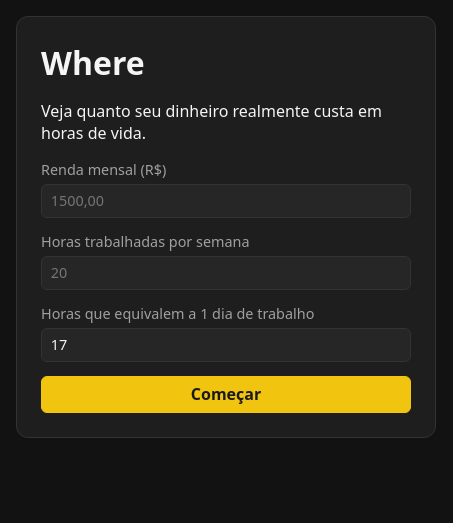
Onboarding › is shown and blocks until settings are valid
The image size is (453, 523).
Expected: the heading "Where" is shown, [41,41,145,84]
Click the button "Começar" at (226, 394), box [41,376,411,413]
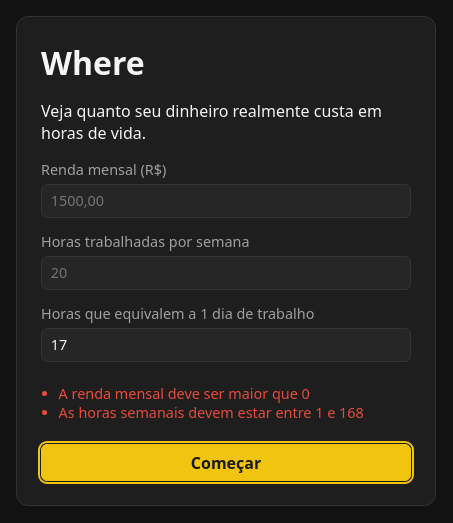
Now the message is shown, box [59,384,364,422]
